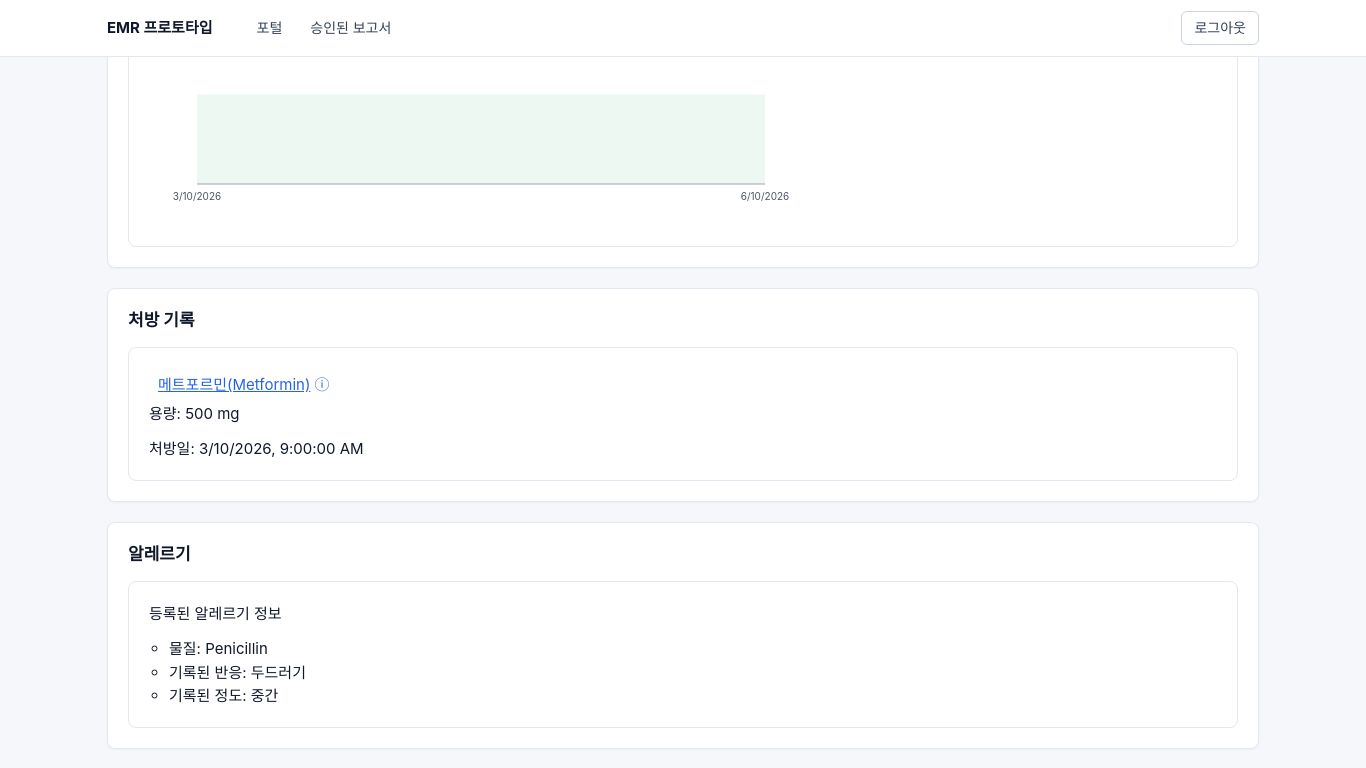
Test: PatientReportDetailPage › opens the medication dialog and shows its plain-language definition
(page scrolled)
Step 1. Click the button "메트포르민(Metformin) ⓘ" → [244, 385], box [149,368,338,402]
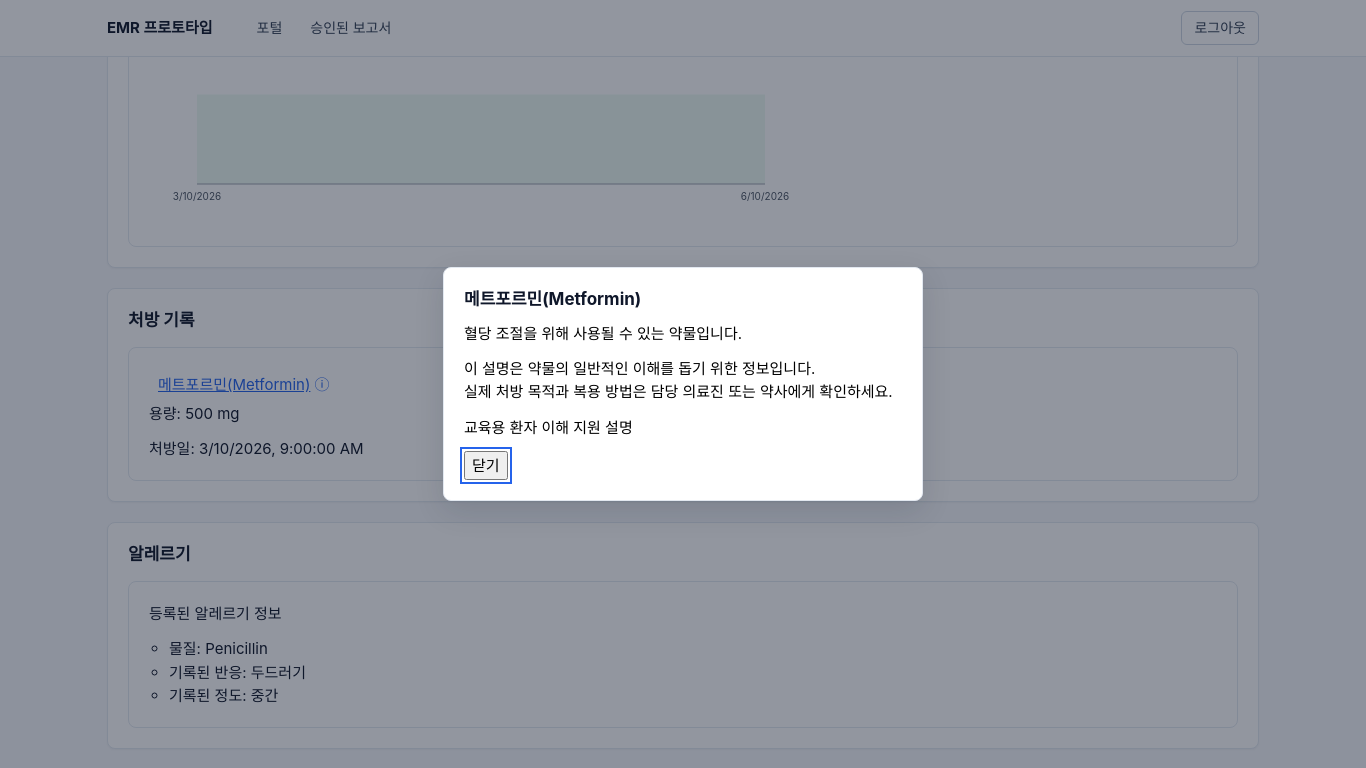
Check: the text "혈당 조절을 위해 사용될 수 있는 약물입니다." is shown, box [464,324,742,343]
